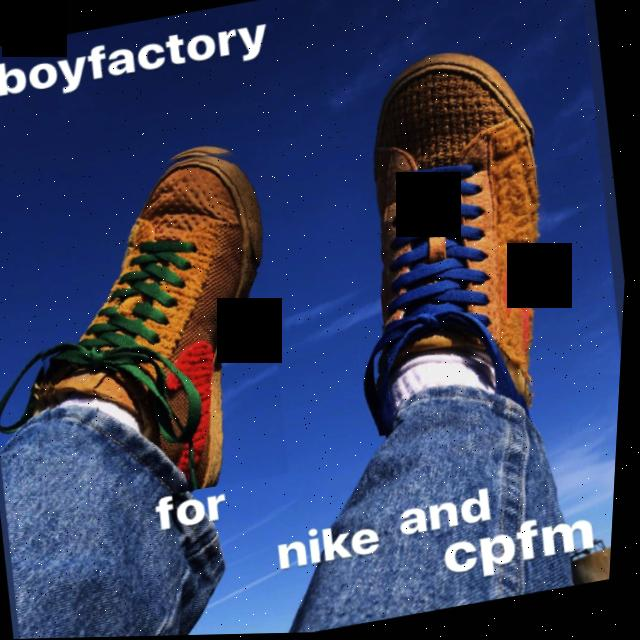shoe: (2, 136, 309, 517), (343, 39, 588, 425)
